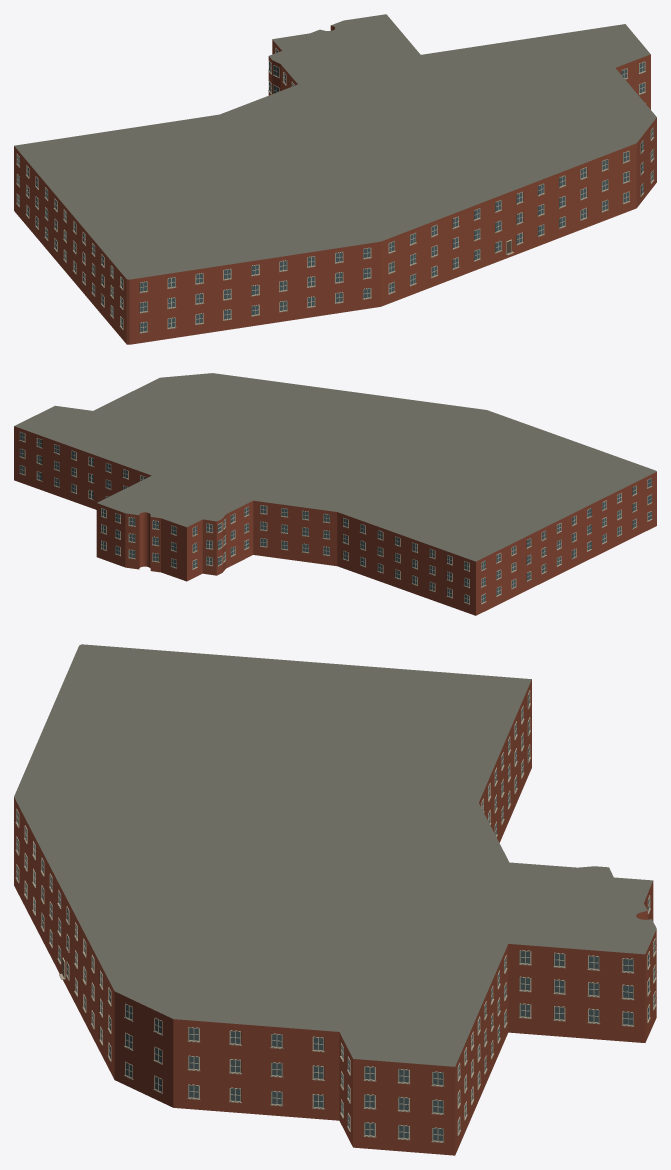
3 views of the same model, one above another, from view 1: azimuth 30°, elevation 25°; view 2: azimuth 150°, elevation 25°; view 3: azimuth 270°, elevation 25° (orthographic). The views are drawn at different scales.
Visible parts, largest first — view 1: -1_4_-1481_42; view 2: -1_4_-1481_42; view 3: -1_4_-1481_42.
Boxes of the visible parts, x1,y1,x2,y2 form: -1_4_-1481_42: (14,14,656,344); -1_4_-1481_42: (14,373,656,615); -1_4_-1481_42: (14,644,656,1155).
Bounding box in the file's own units: 123 × 12.08 × 79.32.
